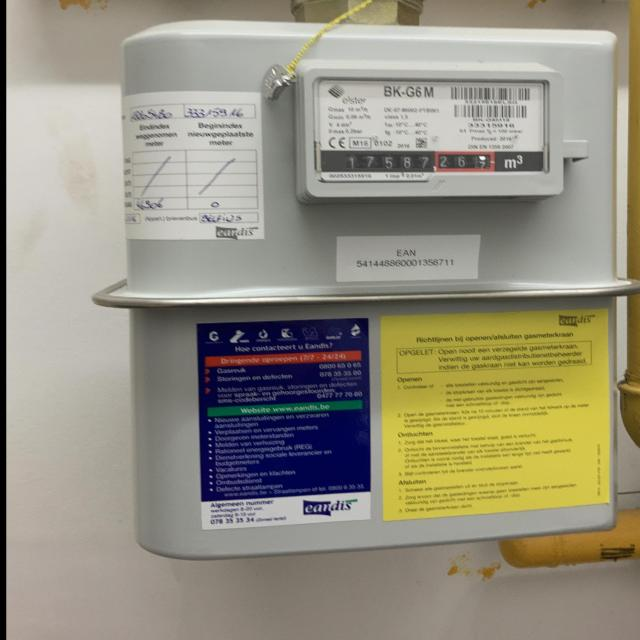gaz_meter: (312, 75, 558, 182)
indication: (319, 151, 498, 172)
